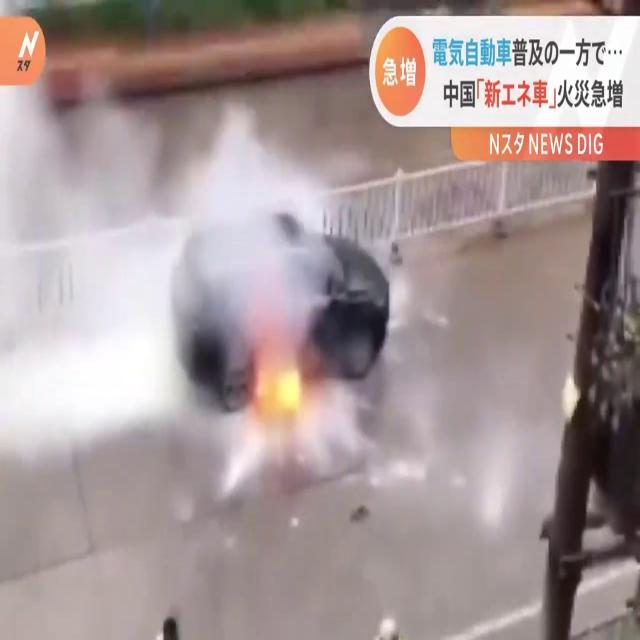Fire: (254, 345, 312, 426)
Smoke: (0, 50, 318, 463)
